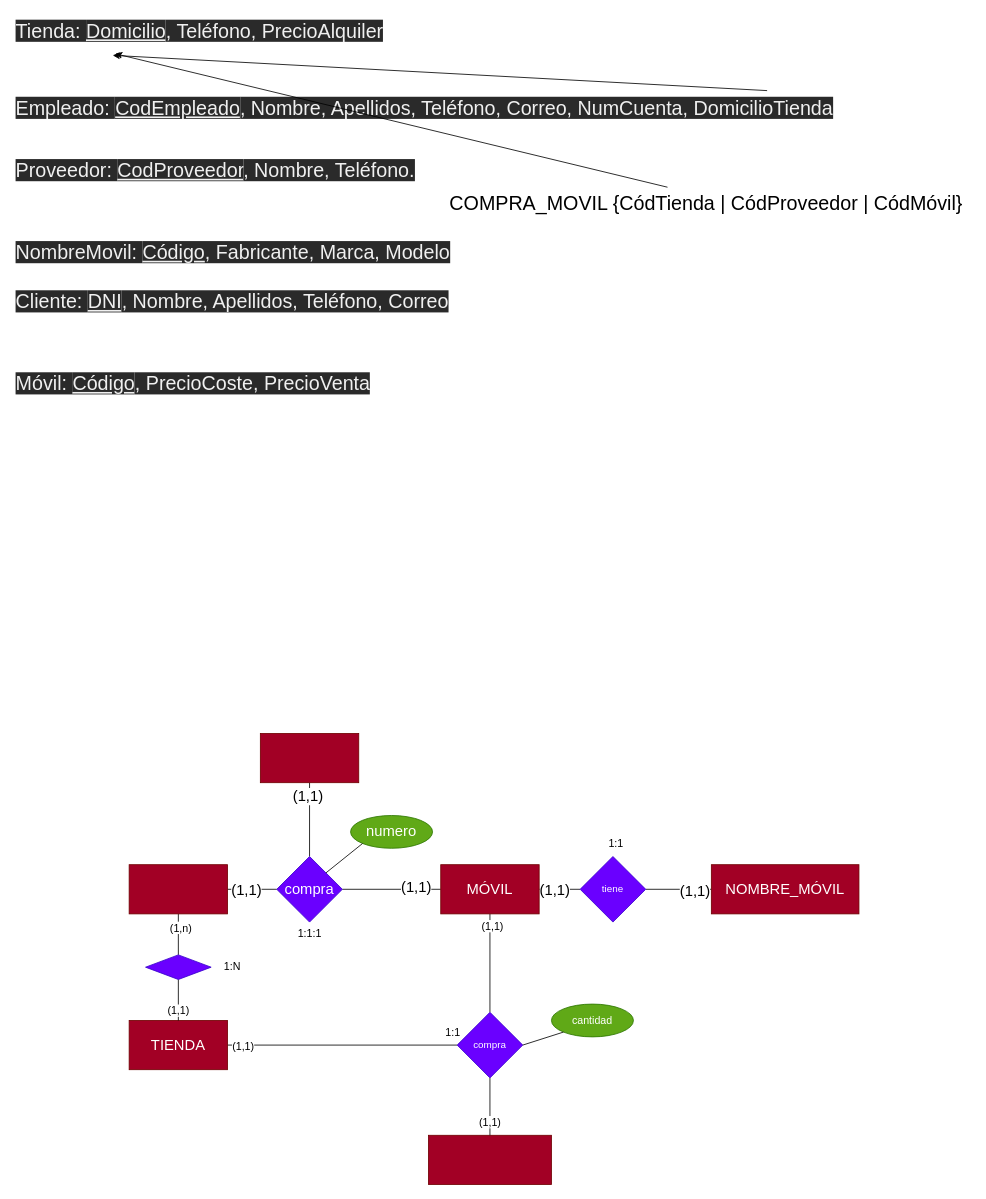
Image size: 986x1199. Some labels were removed from this diagram. Each missing label, with the centre of its shape:
CLIENTE: the point at 309,758
EMPLEADO: the point at 178,889
PROVEEDOR: the point at 489,1159
trabaja: the point at 178,966
